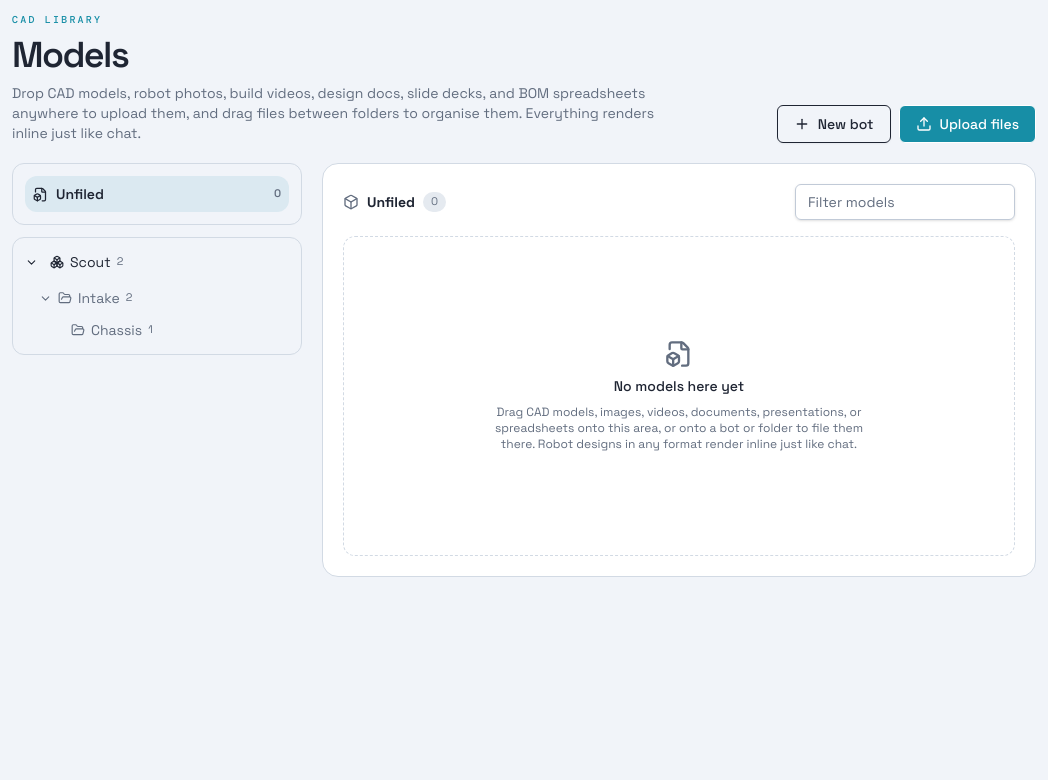
Test: CAD README preview › switches to the exact selected folder README and does not show unrelated locations
Click the button with test id "cad-bot-bot-1": (132, 262) [46, 246, 218, 278]
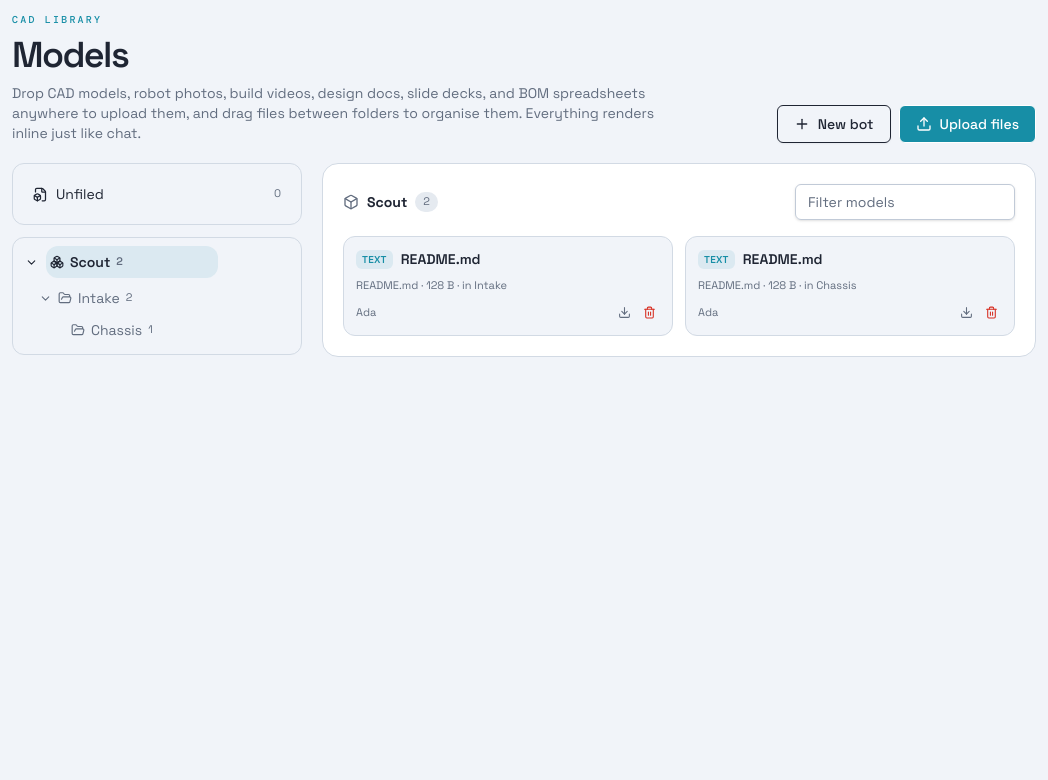
Click the button with test id "cad-folder-folder-intake": (136, 298) [58, 282, 214, 314]
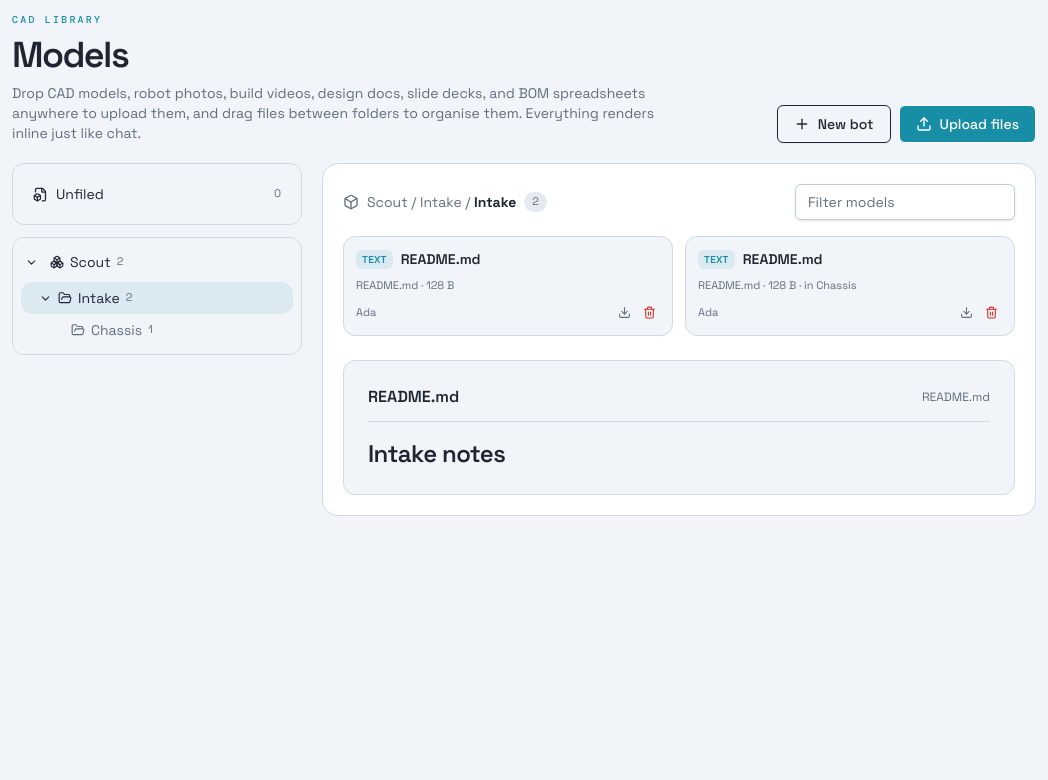
Now the heading "Intake notes" is shown, box [368, 438, 505, 468]
Click the button with test id "cad-folder-folder-chassis": (142, 330) [71, 314, 214, 346]
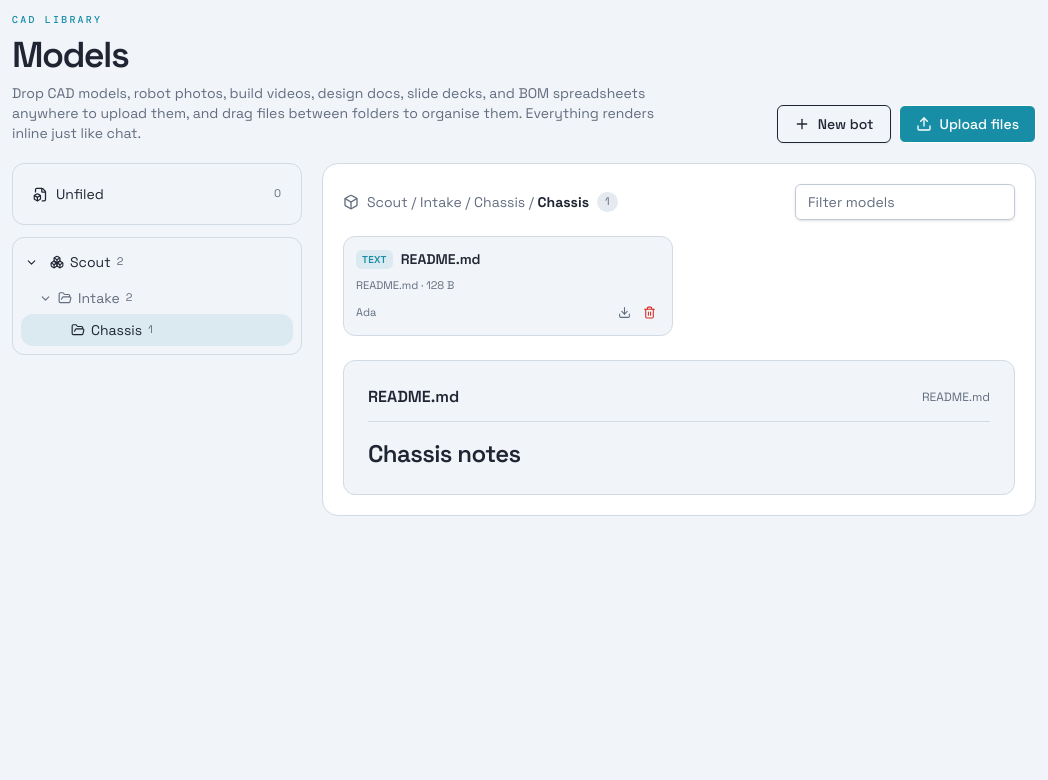
Now the heading "Chassis notes" is shown, box [368, 438, 520, 468]
